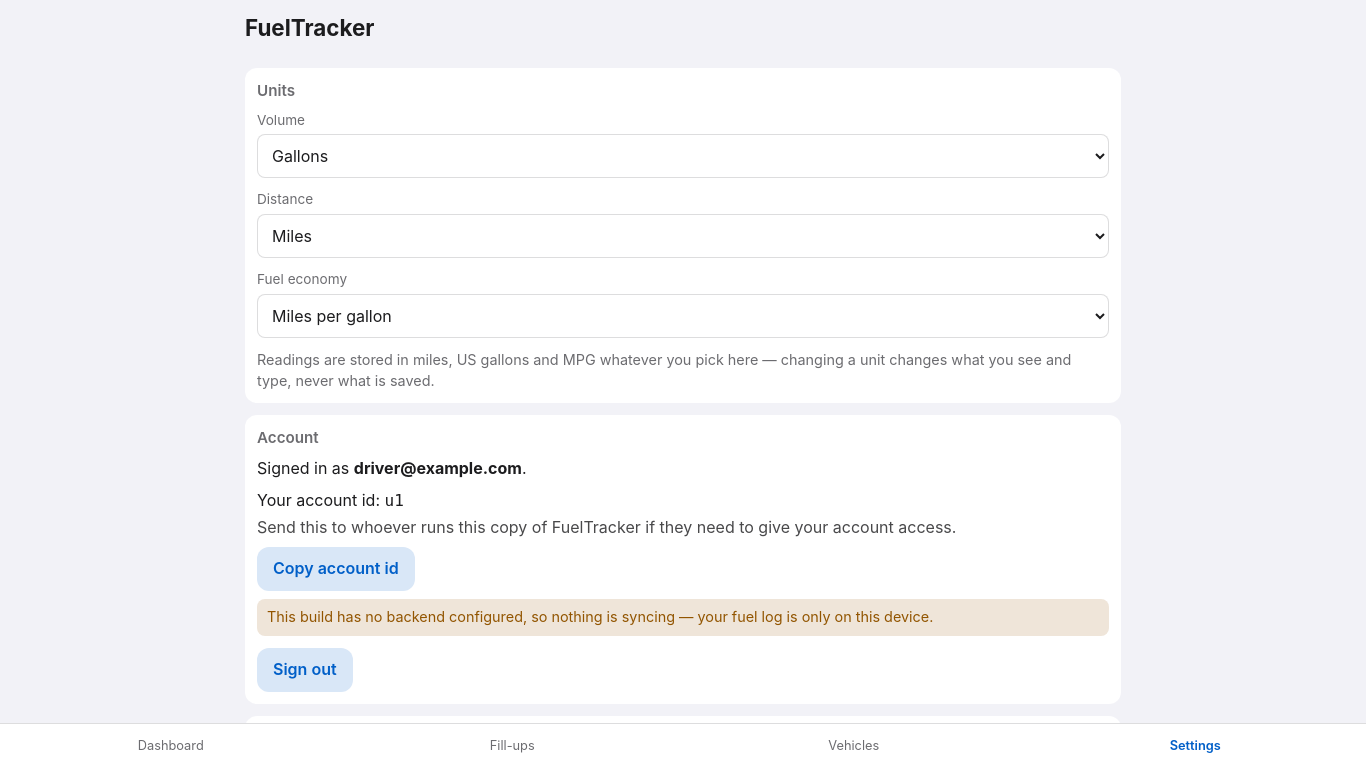
Test: the sign-in gate › signing out from Settings returns to the gate
Check: the text "driver@example.com" is shown, box [354, 458, 522, 478]
Click the button "Sign out" at [305, 670], box [257, 648, 353, 692]
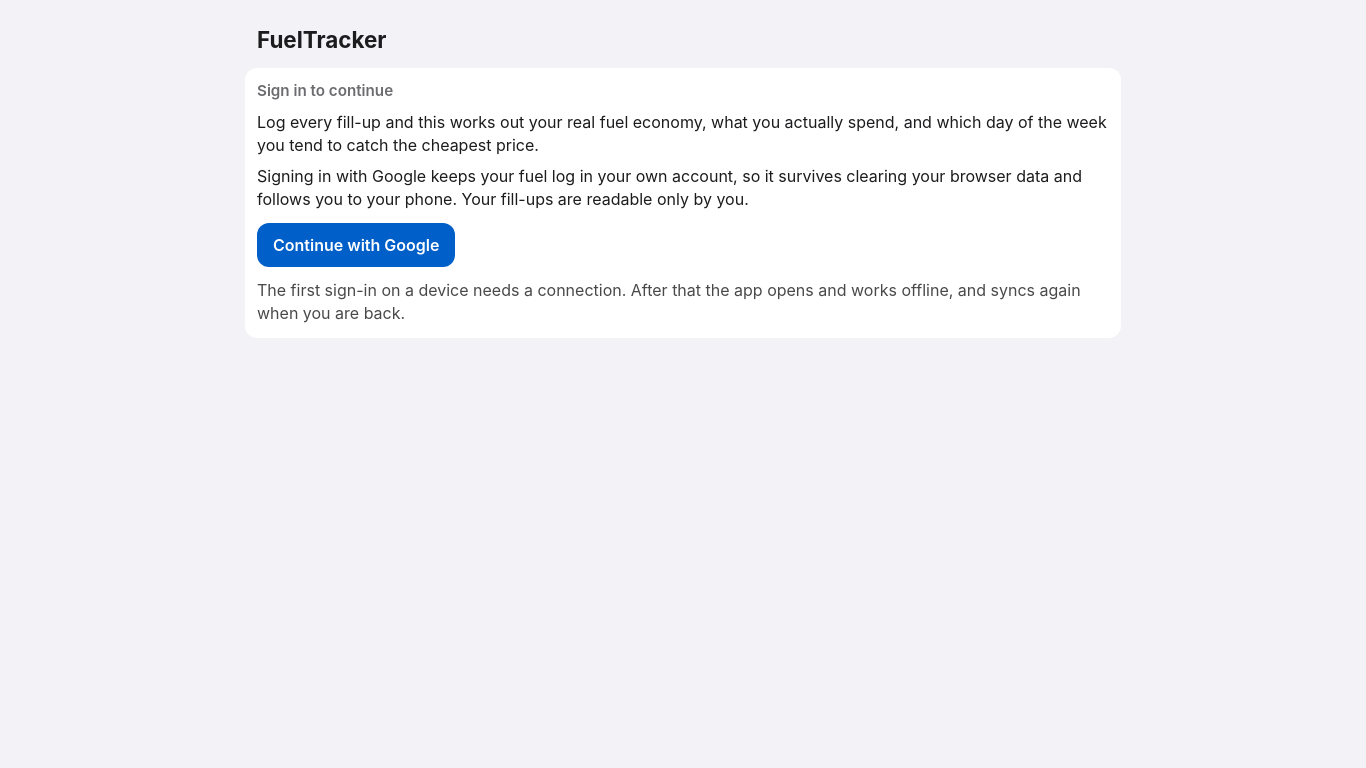
Check: the button "Continue with Google" is shown, box [257, 223, 456, 267]
